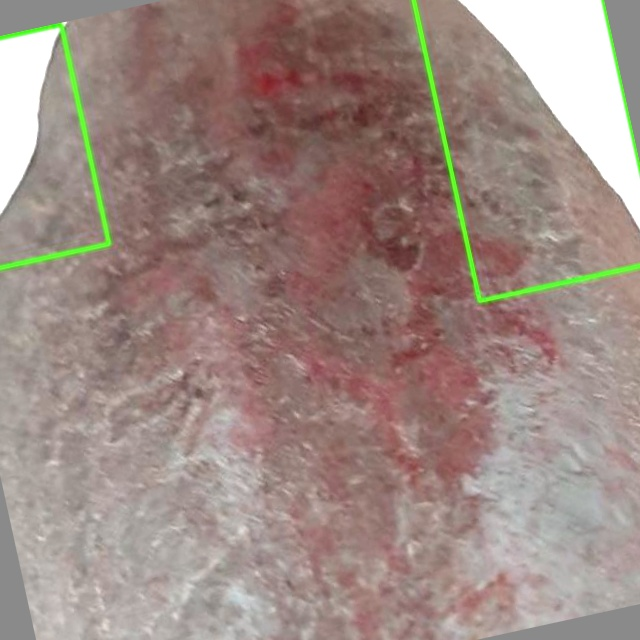Contact Dermatitis: (413, 0, 639, 301)
